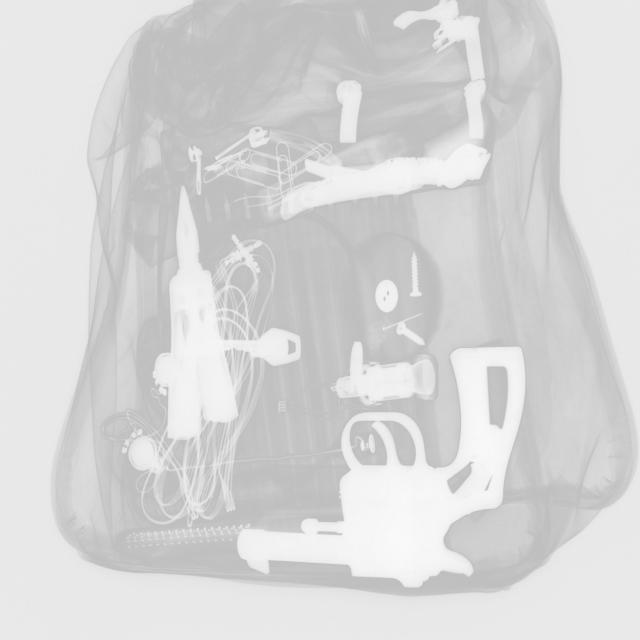pistol: (237, 347, 528, 589)
